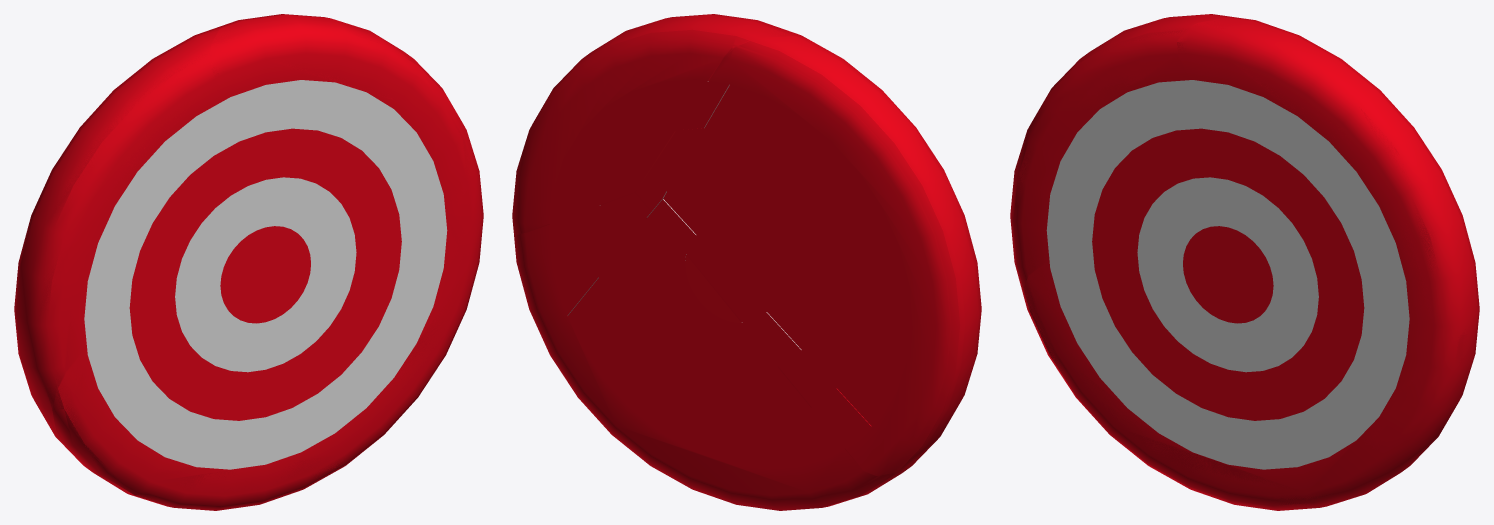
Rendered from Target.fbx.
3 views of the same model, side by side, from view 1: azimuth 30°, elevation 25°; view 2: azimuth 150°, elevation 25°; view 3: azimuth 330°, elevation 25° (orthographic).
Parts seen in each view (by area): view 1: Target, TargetBrokenRed_cell.004, TargetBrokenRed_cell.007, TargetBrokenWhite_cell.005, TargetBrokenWhite_cell, TargetBrokenRed_cell.002, TargetBrokenRed_cell.003, TargetBrokenWhite_cell.002, TargetBrokenWhite_cell.004, TargetBrokenRed_cell.006, TargetBrokenWhite_cell.001, TargetBrokenRed_cell (+2 smaller); view 2: TargetBrokenRed_cell.004, TargetBrokenRed_cell.001, TargetBrokenRed_cell.007, TargetBrokenWhite_cell.001, TargetBrokenWhite_cell.005, TargetBrokenRed_cell.003, TargetBrokenRed_cell.002, TargetBrokenWhite_cell, Target, TargetBrokenWhite_cell.002, TargetBrokenWhite_cell.004, TargetBrokenRed_cell.005 (+2 smaller); view 3: Target, TargetBrokenRed_cell.007, TargetBrokenRed_cell.002, TargetBrokenWhite_cell, TargetBrokenRed_cell.003, TargetBrokenRed_cell.004, TargetBrokenWhite_cell.004, TargetBrokenWhite_cell.002, TargetBrokenWhite_cell.001, TargetBrokenWhite_cell.005, TargetBrokenRed_cell.006, TargetBrokenRed_cell.001 (+2 smaller).
Part boxes in pixels (bbox=[...]): Target: bbox=[14, 14, 483, 510]; TargetBrokenRed_cell.004: bbox=[14, 28, 227, 447]; TargetBrokenRed_cell.007: bbox=[54, 211, 477, 507]; TargetBrokenWhite_cell.005: bbox=[124, 298, 421, 468]; TargetBrokenWhite_cell: bbox=[251, 80, 447, 332]; TargetBrokenRed_cell.002: bbox=[129, 142, 401, 419]; TargetBrokenRed_cell.003: bbox=[209, 14, 483, 223]; TargetBrokenWhite_cell.002: bbox=[194, 211, 355, 372]; TargetBrokenWhite_cell.004: bbox=[175, 177, 320, 349]; TargetBrokenRed_cell.006: bbox=[223, 226, 310, 323]; TargetBrokenWhite_cell.001: bbox=[84, 90, 268, 422]; TargetBrokenRed_cell: bbox=[254, 128, 391, 189]; TargetBrokenRed_cell.004: bbox=[708, 37, 981, 475]; TargetBrokenRed_cell.001: bbox=[636, 128, 866, 407]; TargetBrokenRed_cell.007: bbox=[514, 224, 948, 510]; TargetBrokenWhite_cell.001: bbox=[705, 84, 911, 426]; TargetBrokenWhite_cell.005: bbox=[567, 278, 871, 469]; TargetBrokenRed_cell.003: bbox=[512, 14, 806, 234]; TargetBrokenRed_cell.002: bbox=[594, 192, 811, 420]; TargetBrokenWhite_cell: bbox=[549, 79, 729, 315]; Target: bbox=[514, 14, 980, 510]; TargetBrokenWhite_cell.002: bbox=[640, 199, 801, 371]; TargetBrokenWhite_cell.004: bbox=[663, 177, 821, 349]; TargetBrokenRed_cell.005: bbox=[686, 225, 775, 322]; Target: bbox=[1013, 14, 1479, 510]; TargetBrokenRed_cell.007: bbox=[1024, 260, 1477, 510]; TargetBrokenRed_cell.002: bbox=[1092, 136, 1363, 419]; TargetBrokenWhite_cell: bbox=[1214, 83, 1409, 404]; TargetBrokenRed_cell.003: bbox=[1177, 18, 1479, 333]; TargetBrokenRed_cell.004: bbox=[1010, 14, 1229, 284]; TargetBrokenWhite_cell.004: bbox=[1137, 177, 1283, 314]; TargetBrokenWhite_cell.002: bbox=[1157, 238, 1317, 372]; TargetBrokenWhite_cell.001: bbox=[1047, 80, 1236, 355]; TargetBrokenWhite_cell.005: bbox=[1086, 336, 1383, 468]; TargetBrokenRed_cell.006: bbox=[1183, 227, 1273, 323]; TargetBrokenRed_cell.001: bbox=[1093, 131, 1211, 225].
Bounding box in the file's own units: 2 × 2 × 0.2539.
